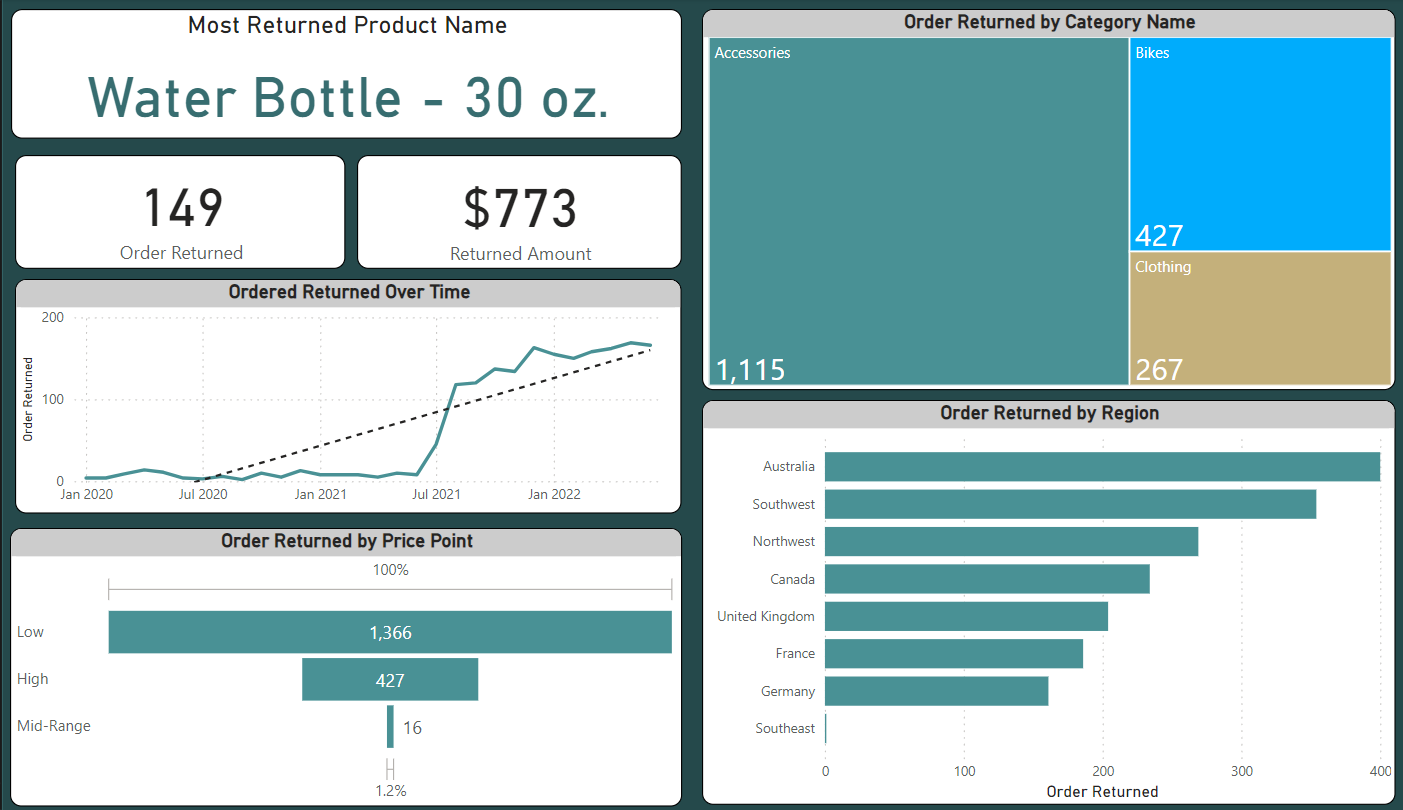

The page's visual inventory and layout, read from the dashboard file:
{"tool":"powerbi","page":{"name":"Return Details ","canvas":[1280,720],"ordinal":4},"visuals":[{"type":"card","title":"Most Returned Product Name","fields":{"Values":["Min(Product Lookup.Product Name)"]},"box":[45.2,8.9,595,115.3],"z":0},{"type":"card","fields":{"Values":["_Measures.Order Returned"]},"box":[48.8,138.3,293.5,101.1],"z":1000},{"type":"card","fields":{"Values":["_Measures.Returned Amount"]},"box":[352,138.3,288.2,101.1],"z":2000},{"type":"shape","box":[0,0,38.2,720],"z":3000},{"type":"actionButton","box":[0,0,30.1,30.1],"z":4000},{"type":"treemap","fields":{"Group":["Product Categories Lookup.Category Name","Product Lookup.ProductSubcategoryKey","Product Lookup.Product Name"],"Values":["_Measures.Order Returned"]},"box":[657.9,8.9,615.4,337.8],"z":5000},{"type":"lineChart","title":"Ordered Returned Over Time","fields":{"Category":["Calendar Lookup.Start of Month"],"Y":["_Measures.Order Returned"]},"box":[48.8,248.3,591.4,208.4],"z":6000},{"type":"clusteredBarChart","fields":{"Category":["Territory Lookup.Region"],"Y":["_Measures.Order Returned"]},"box":[657.9,355.6,615.4,359.1],"z":7000},{"type":"funnel","fields":{"Category":["Product Lookup.Price Point"],"Y":["_Measures.Order Returned"]},"box":[44.3,469.1,595.9,247.4],"z":8000},{"type":"actionButton","box":[0,464.6,37.2,34.6],"z":9000},{"type":"actionButton","box":[0.9,520.5,37.2,34.6],"z":10000},{"type":"actionButton","box":[0,571,37.2,34.6],"z":11000},{"type":"actionButton","box":[0,618.9,37.2,34.6],"z":12000},{"type":"actionButton","box":[0,663.3,38.1,47.9],"z":13000}]}

Visuals, with their boxes in screenshot pixels (x1, y1, x2, y2), scaled from the page's 1280x720 canvas onto the 1403x810 screenshot:
"Most Returned Product Name" card: <region>50, 10, 702, 140</region>
card - _Measures.Order Returned: <region>53, 156, 375, 269</region>
card - _Measures.Returned Amount: <region>386, 156, 702, 269</region>
shape: <region>0, 0, 42, 809</region>
actionButton: <region>0, 0, 33, 34</region>
treemap - Product Categories Lookup.Category Name x Product Lookup.ProductSubcategoryKey: <region>721, 10, 1396, 390</region>
"Ordered Returned Over Time" lineChart: <region>53, 279, 702, 514</region>
clusteredBarChart - Territory Lookup.Region x _Measures.Order Returned: <region>721, 400, 1396, 804</region>
funnel - Product Lookup.Price Point x _Measures.Order Returned: <region>49, 528, 702, 806</region>
actionButton: <region>0, 523, 41, 562</region>
actionButton: <region>1, 586, 42, 624</region>
actionButton: <region>0, 642, 41, 681</region>
actionButton: <region>0, 696, 41, 735</region>
actionButton: <region>0, 746, 42, 800</region>
